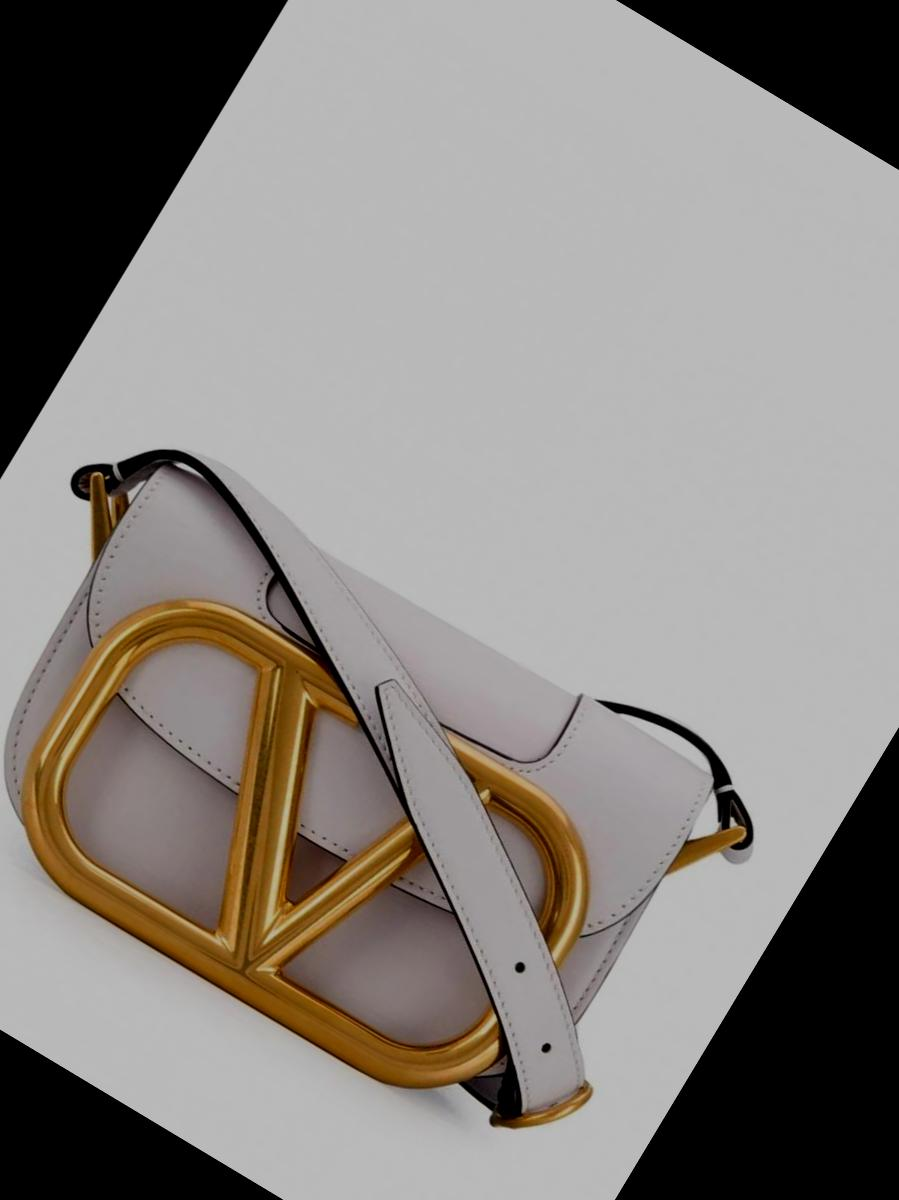VALENTINO: (0, 553, 633, 1132)
